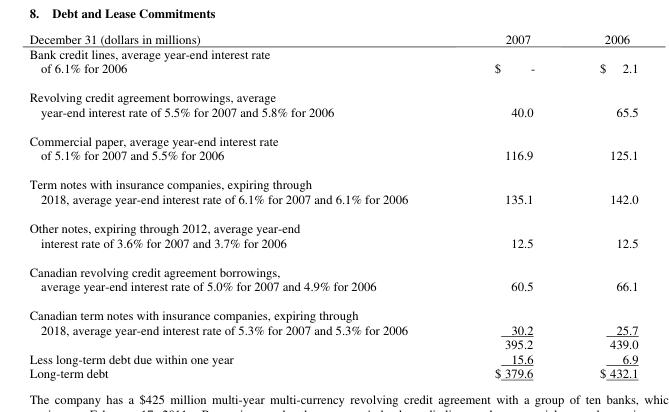table: (28, 29, 637, 380)
table column: (28, 29, 450, 380), (450, 29, 566, 380), (566, 29, 637, 380)
table column header: (28, 29, 637, 45)
table row: (28, 81, 637, 125), (28, 125, 637, 169), (28, 212, 637, 256), (28, 169, 637, 212), (28, 256, 637, 299), (28, 299, 637, 336), (28, 45, 637, 81), (28, 29, 637, 45), (28, 350, 637, 365), (28, 365, 637, 380), (28, 336, 637, 350)
